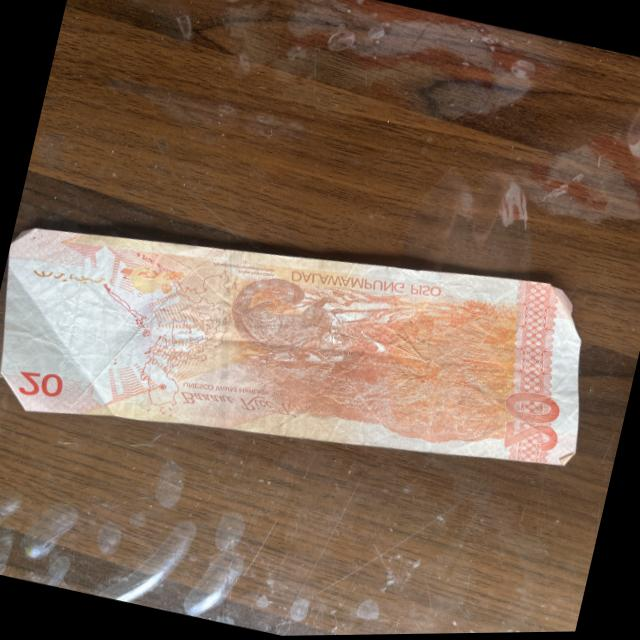20_civet: (222, 262, 358, 372)
20_civet_watermark: (122, 260, 183, 303)
